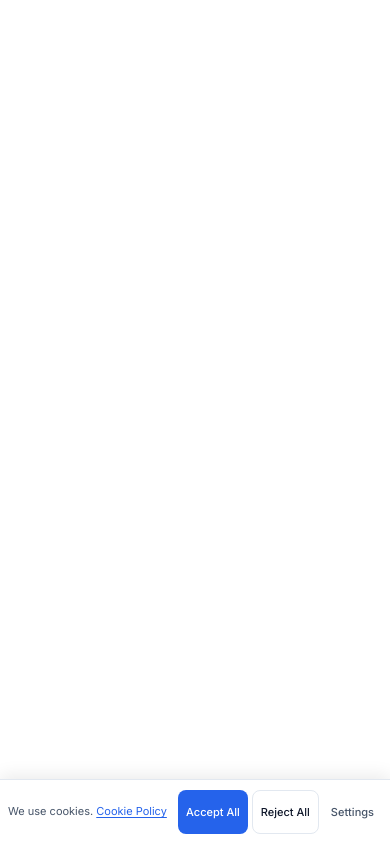
CookieConsentBanner compact phone bar (ROO-81) › opens the existing preferences sheet from Settings
Expected: the element showing "We use cookies. Cookie Policy Accept All Reject All Settings" is shown, [0, 779, 389, 843]
Step 1. Click the button "Settings" → {"x": 352, "y": 812}, box [323, 790, 382, 834]
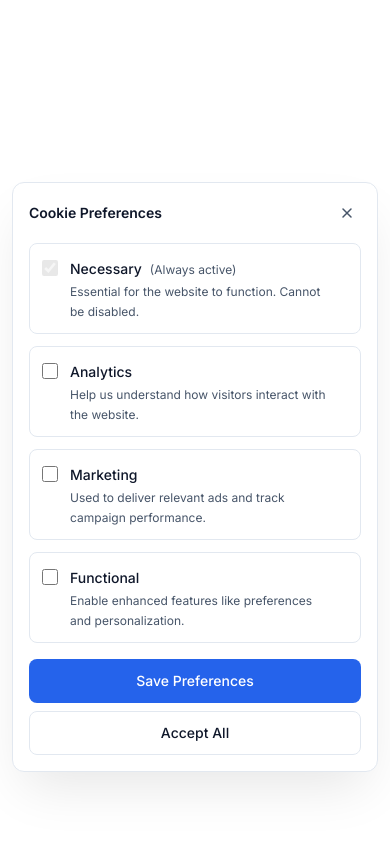
Expected: the text "Cookie Preferences" is shown, [29, 203, 162, 223]
Expected: the button "Save Preferences" is shown, [29, 659, 361, 703]
